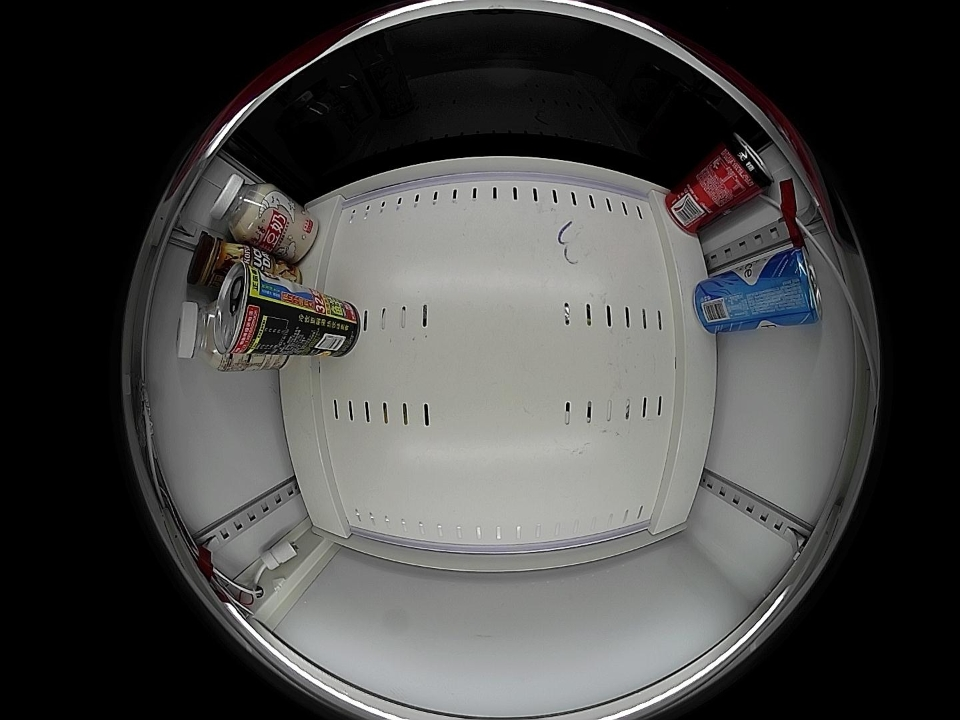lingdukele: (713, 132, 774, 197)
lujikafei: (187, 233, 248, 290)
qingdaowangzi-2: (767, 246, 821, 327)
weiweidounai: (210, 174, 276, 242), (177, 300, 234, 371)
yezhi: (213, 262, 273, 354)
